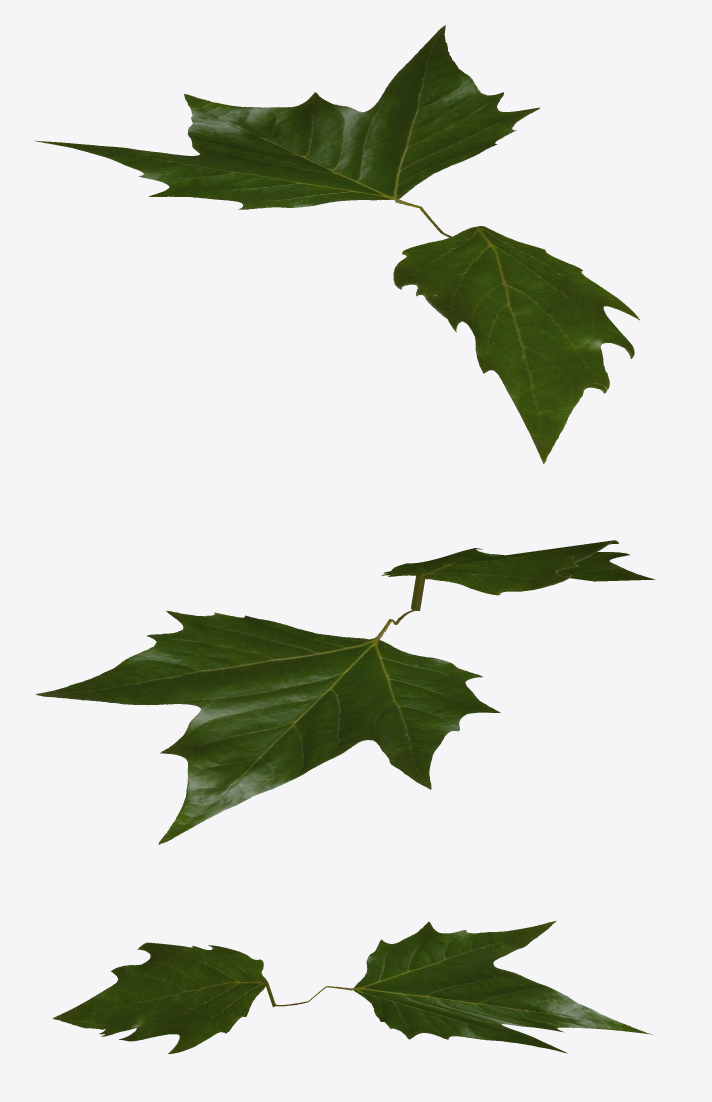
File: sycDoubleLeaves.fbx
The picture shows the model from 3 angles, top to bottom: view 1: azimuth 30°, elevation 25°; view 2: azimuth 150°, elevation 25°; view 3: azimuth 270°, elevation 25°; orthographic projection. The views are drawn at different scales.
Visible parts, largest first — view 1: Polygon; view 2: Polygon; view 3: Polygon.
Boxes of the visible parts, x1,y1,x2,y2 form: Polygon: [34, 25, 639, 463]; Polygon: [36, 540, 654, 844]; Polygon: [52, 921, 652, 1054].
Bounding box in the file's own units: 10.04 × 2.93 × 19.79.
1 material, 1 textured.
